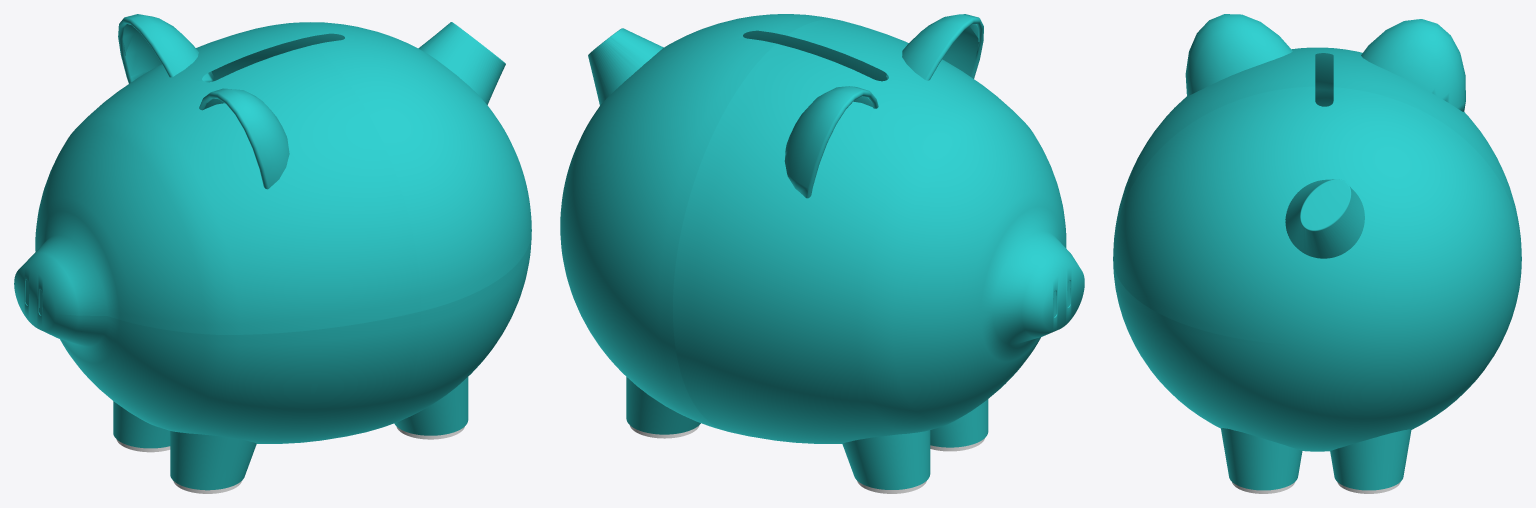
File: piggy.dae
3 renders of one model, left to right at view 1: azimuth 30°, elevation 25°; view 2: azimuth 150°, elevation 25°; view 3: azimuth 270°, elevation 25°, orthographic. The views are drawn at different scales.
Parts seen in each view (by area): view 1: Component_12, Component_7 (×3), ear (×2), Component_6; view 2: Component_12, Component_7 (×3), ear (×2), Component_6; view 3: Component_12, ear (×2), Component_7 (×2), Component_6, Component_11.
Boxes of the visible parts, x1,y1,x2,y2 form: Component_12: (14,22,531,443); Component_7 (×3): (113,377,468,490); ear (×2): (118,14,289,189); Component_6: (418,22,505,104); Component_12: (560,14,1084,443); Component_7 (×3): (626,377,988,489); ear (×2): (784,14,983,198); Component_6: (588,28,663,105); Component_12: (1113,47,1521,451); ear (×2): (1185,14,1465,111); Component_7 (×2): (1221,428,1411,490); Component_6: (1285,179,1364,258); Component_11: (1300,179,1351,231).
Bounding box in the file's own units: 54.28 × 44.62 × 44.11.
